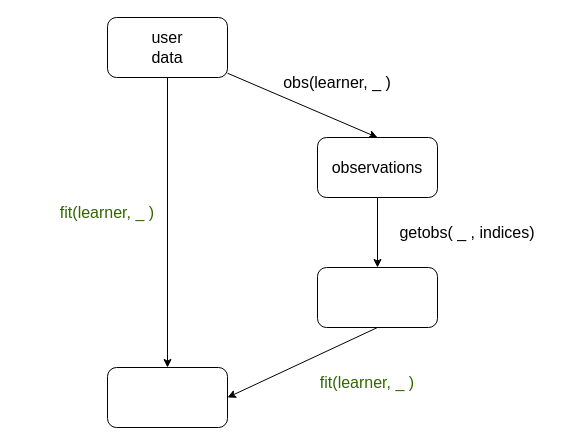
Image size: 574x445. Some labels were removed from this diagram. Here are the shapes that lost their labels. From the top down, the centre of each, then its label:
point (377, 297): subsampled observations
point (167, 397): model
